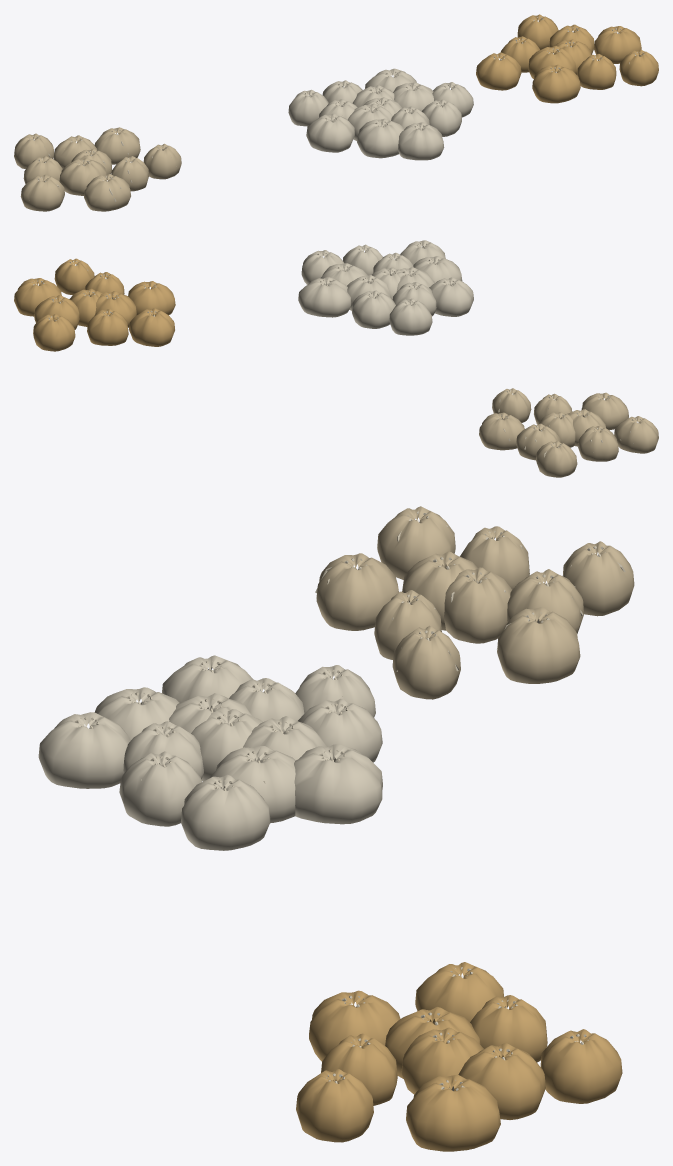
File: dimsum.glb
The picture shows the model from 3 angles, top to bottom: view 1: azimuth 30°, elevation 25°; view 2: azimuth 150°, elevation 25°; view 3: azimuth 270°, elevation 25°; orthographic projection. The views are drawn at different scales.
Visible parts, largest first — view 1: dimsum; view 2: dimsum; view 3: dimsum.
Part boxes in pixels (x1=…): dimsum: x1=14, y1=14, x2=658, y2=211; dimsum: x1=14, y1=240, x2=658, y2=477; dimsum: x1=38, y1=506, x2=634, y2=1151.
Size of the model in its own units: 1.33 by 0.1404 by 0.5528.
